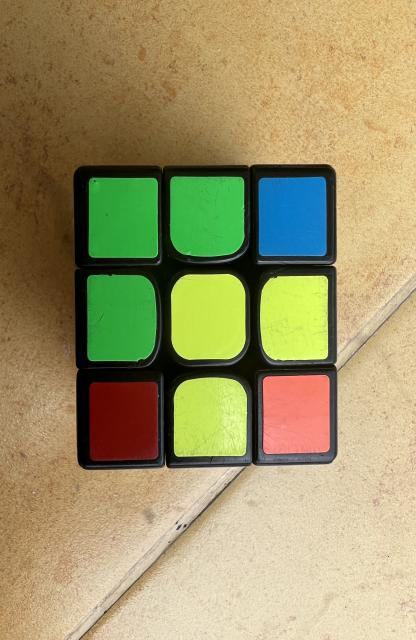Blue: (259, 176, 327, 256)
Green: (87, 275, 157, 361), (170, 176, 245, 256), (89, 178, 158, 258)
Orange: (262, 375, 330, 454)
Red: (89, 381, 158, 461)
Yellow: (171, 274, 246, 360), (173, 378, 247, 458), (260, 275, 328, 361)
